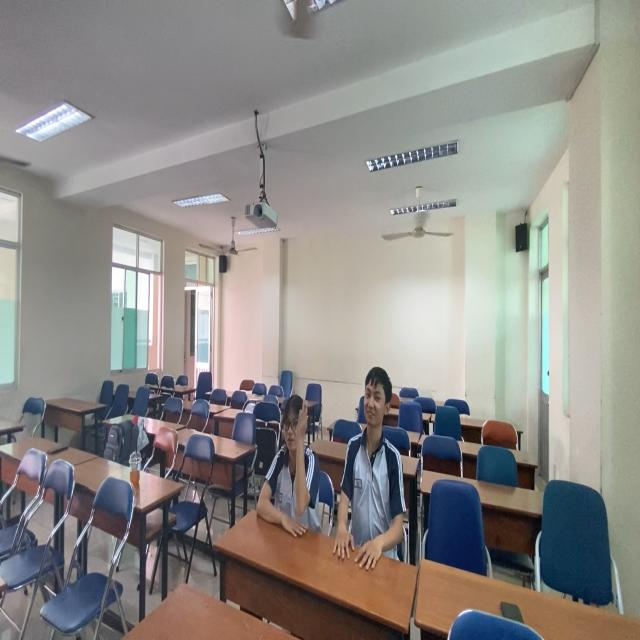raise_hand: (252, 385, 320, 544)
